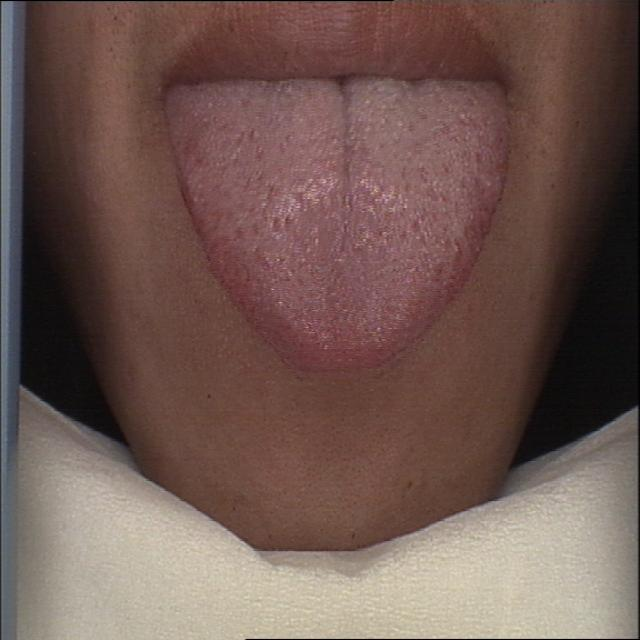tongue: (160, 75, 516, 379)
